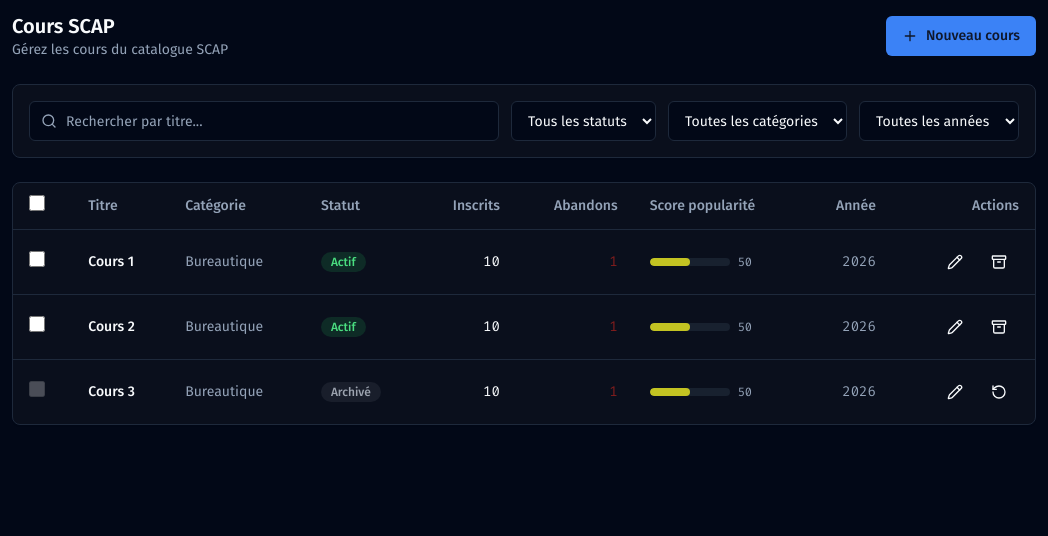
Test case: Sélection › marque « tout sélectionner » comme indéterminé en sélection partielle
Expected: the text "Cours 1" is shown, [72,230,169,294]
Click the checkbox named "Sélectionner « Cours 1 »".
click(37, 259)  # box [29,251,45,267]
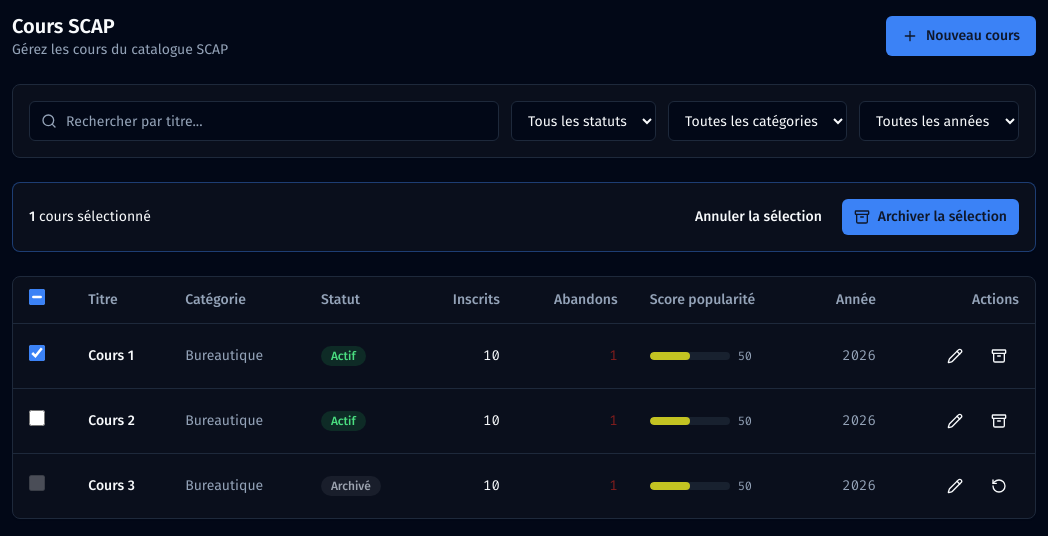
Expected: the checkbox named "Sélectionner tous les cours actifs affichés" is not checked, [29,289,45,305]
Click the checkbox named "Sélectionner « Cours 2 »".
click(37, 418)  # box [29,410,45,426]
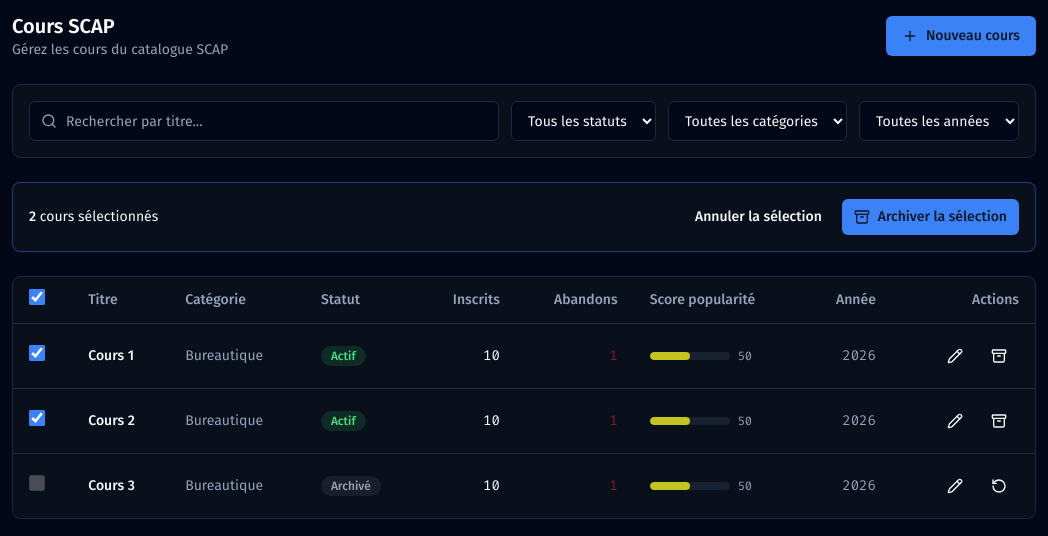
Result: the checkbox named "Sélectionner tous les cours actifs affichés" is checked at [29,289,45,305]
